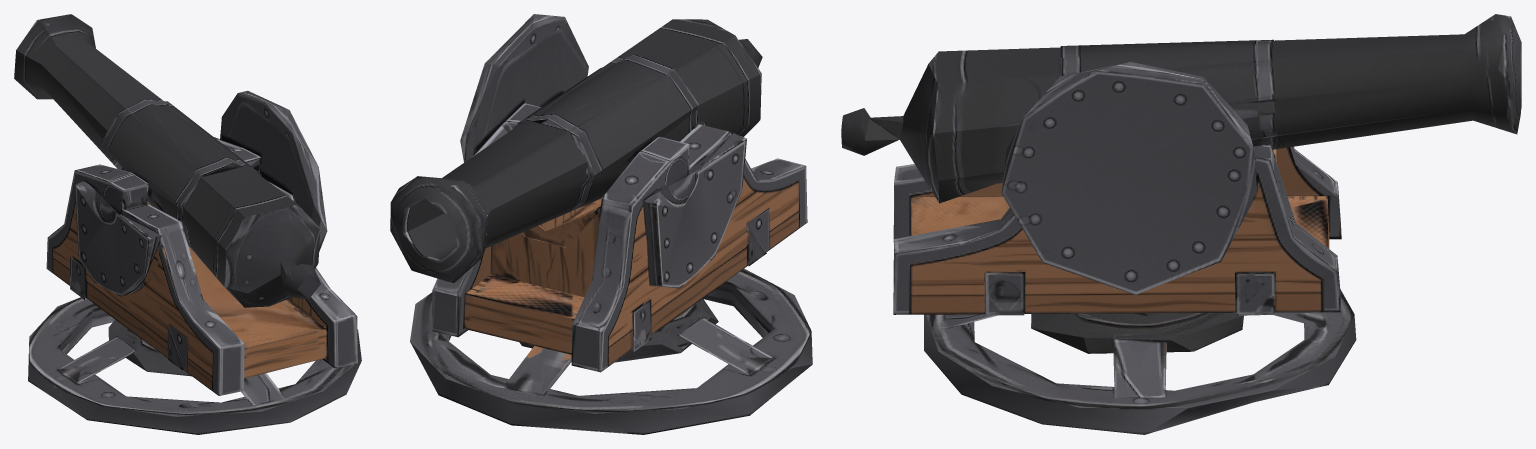
The model's file is cannon22a-b-500.glb.
3 views of the same model, side by side, from view 1: azimuth 30°, elevation 25°; view 2: azimuth 150°, elevation 25°; view 3: azimuth 270°, elevation 25° (orthographic). The views are drawn at different scales.
Parts seen in each view (by area): view 1: mount, barrel; view 2: mount, barrel; view 3: mount, barrel.
Boxes of the visible parts, box(x1,y1,x2,y2) form: mount: box(28, 90, 361, 434); barrel: box(14, 14, 320, 307); mount: box(410, 14, 812, 434); barrel: box(390, 19, 762, 282); mount: box(893, 61, 1356, 434); barrel: box(841, 14, 1521, 203).
Size of the model in its own units: 1.29 by 1.05 by 2.
Materials: 1 (1 with a texture image).
